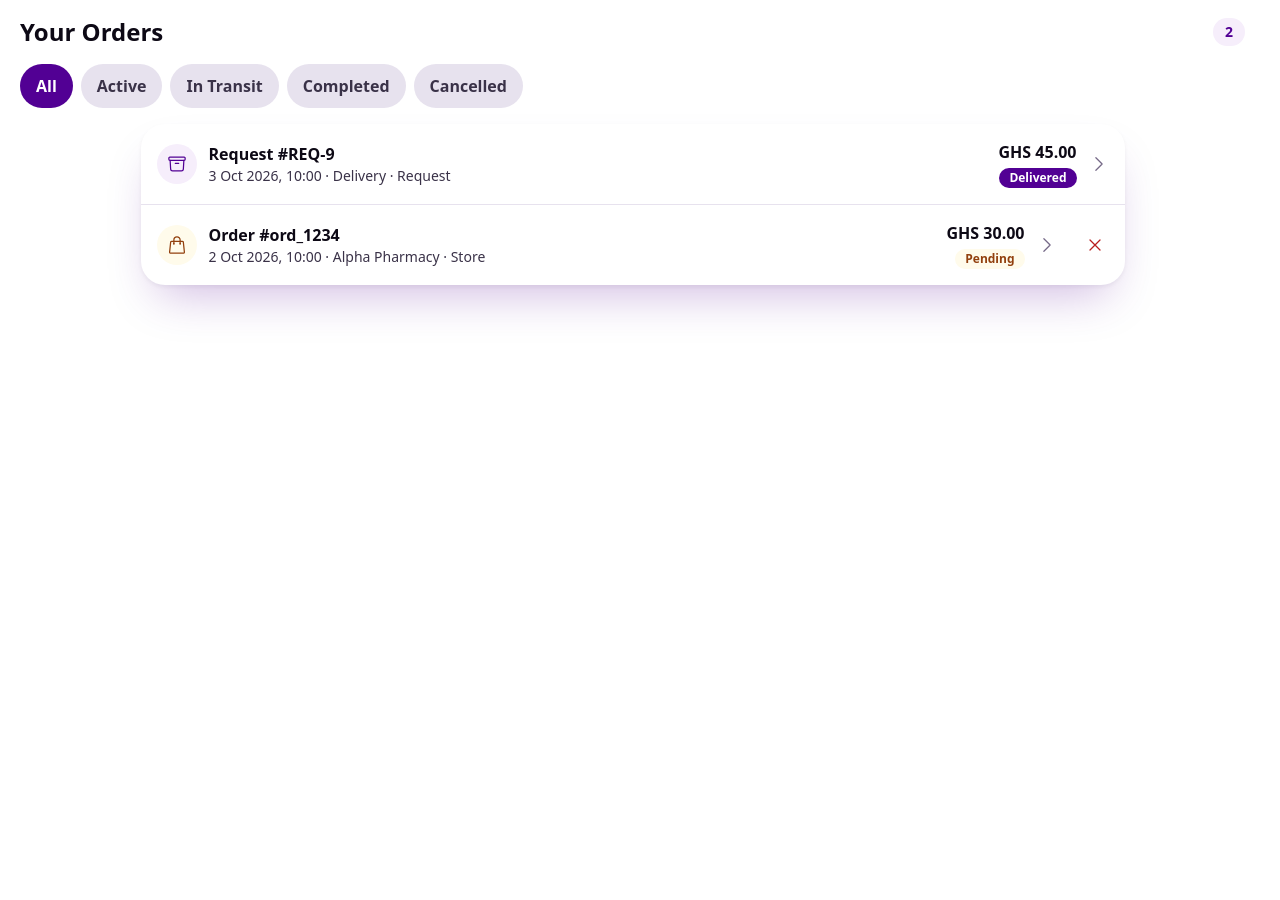
it: Orders: detail dialogs › opens the request dialog and closes with the labelled Close button
Click the button that starts with "Request #REQ-9": (176, 164) top-left (140, 124), bottom-right (1124, 204)
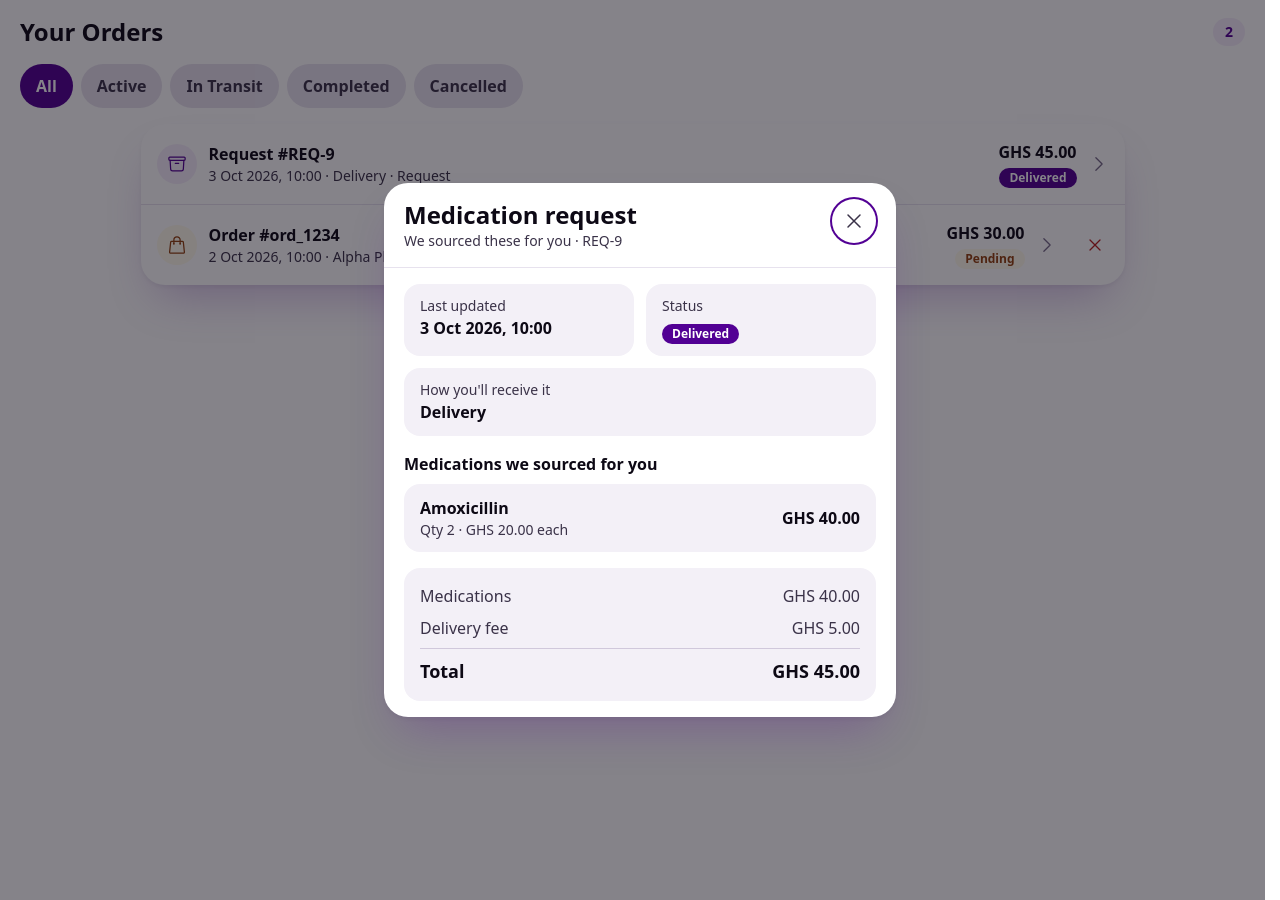
Expected: the heading "Medication request" is shown, top-left (404, 199), bottom-right (637, 231)
Expected: the dialog shows "Amoxicillin", top-left (420, 497), bottom-right (509, 519)
Click the button named "Close": (854, 221) top-left (832, 199), bottom-right (876, 243)
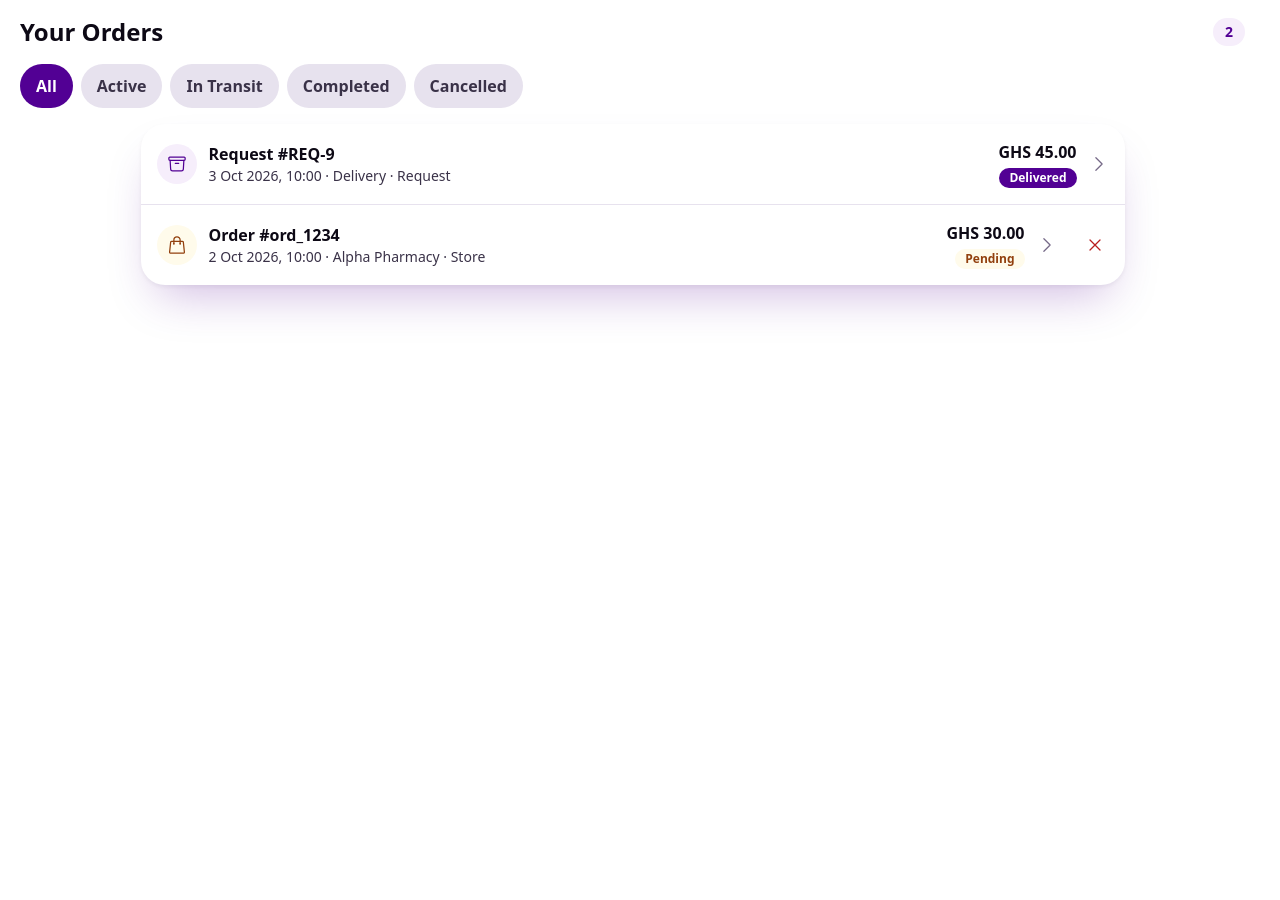
Expected: the dialog is gone
